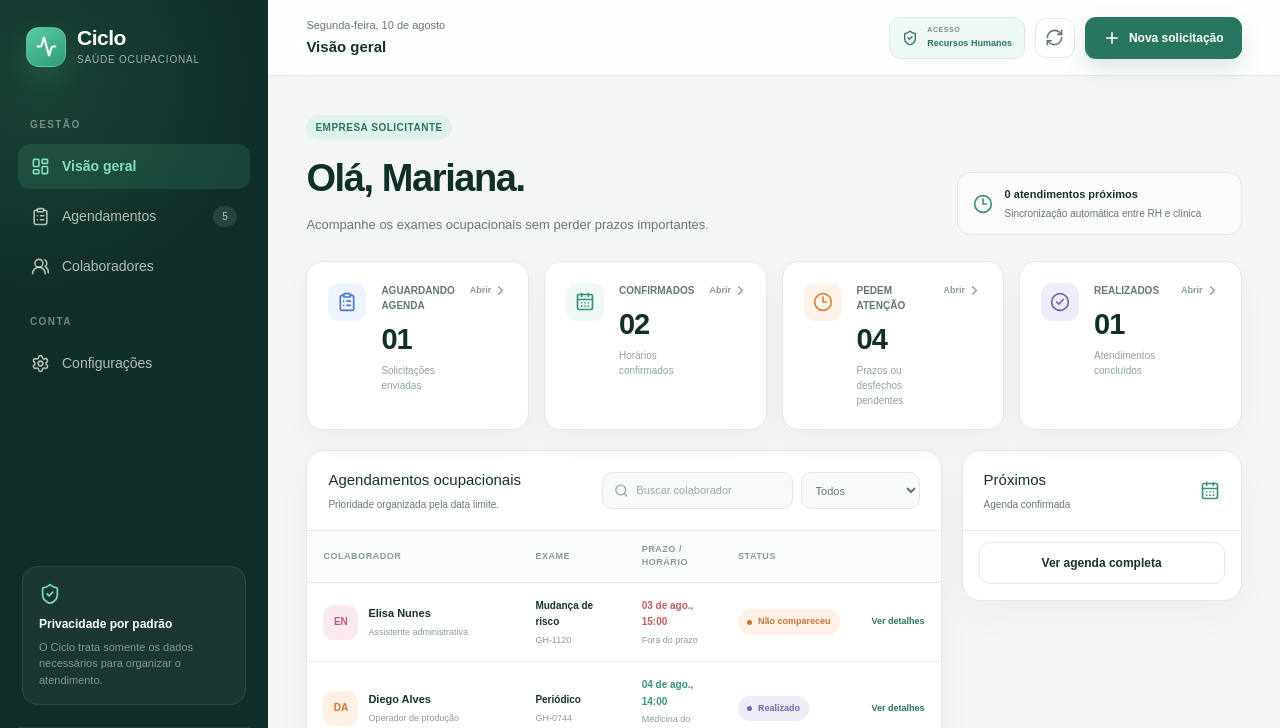
Scenario: Fluxo operacional por perfil › adapta o campo de data ao tipo de exame selecionado
Step 1. Click the button "Nova solicitação" → (1163, 38), box [1085,16,1242,58]
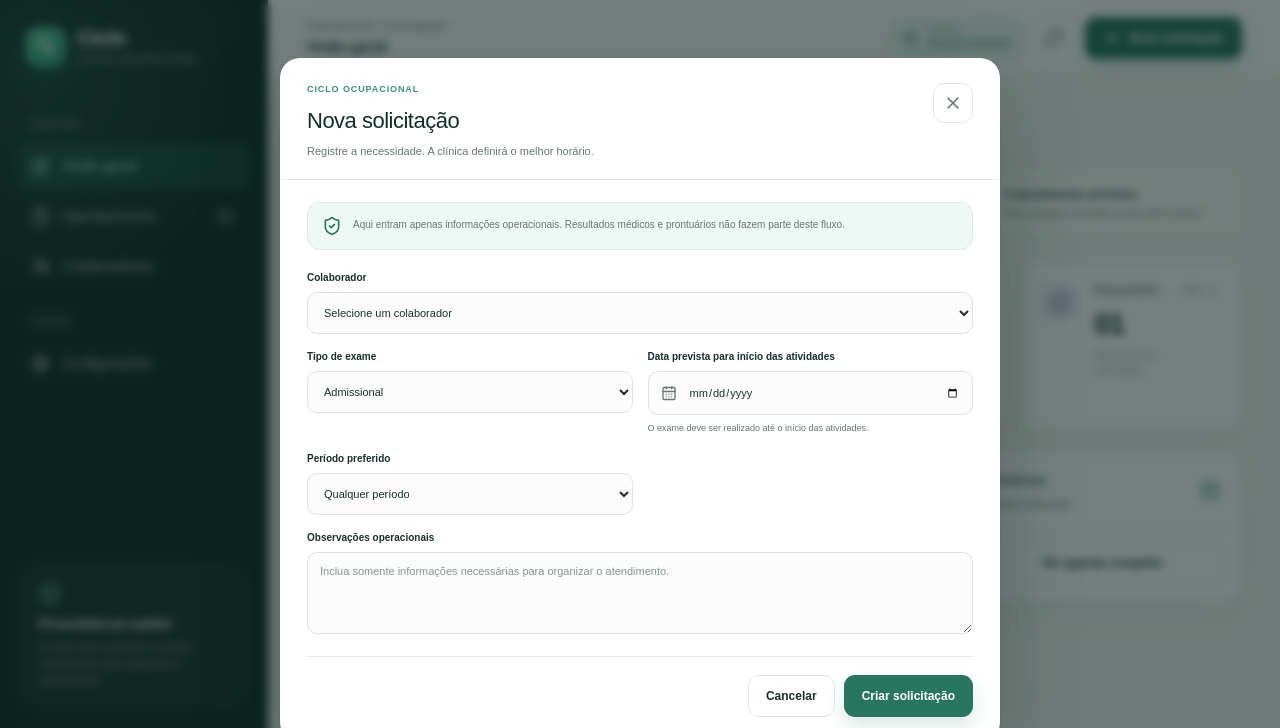
Step 2. Select "Demissional" in the dropdown labelled "Tipo de exame" → (470, 392), box [307,372,632,414]
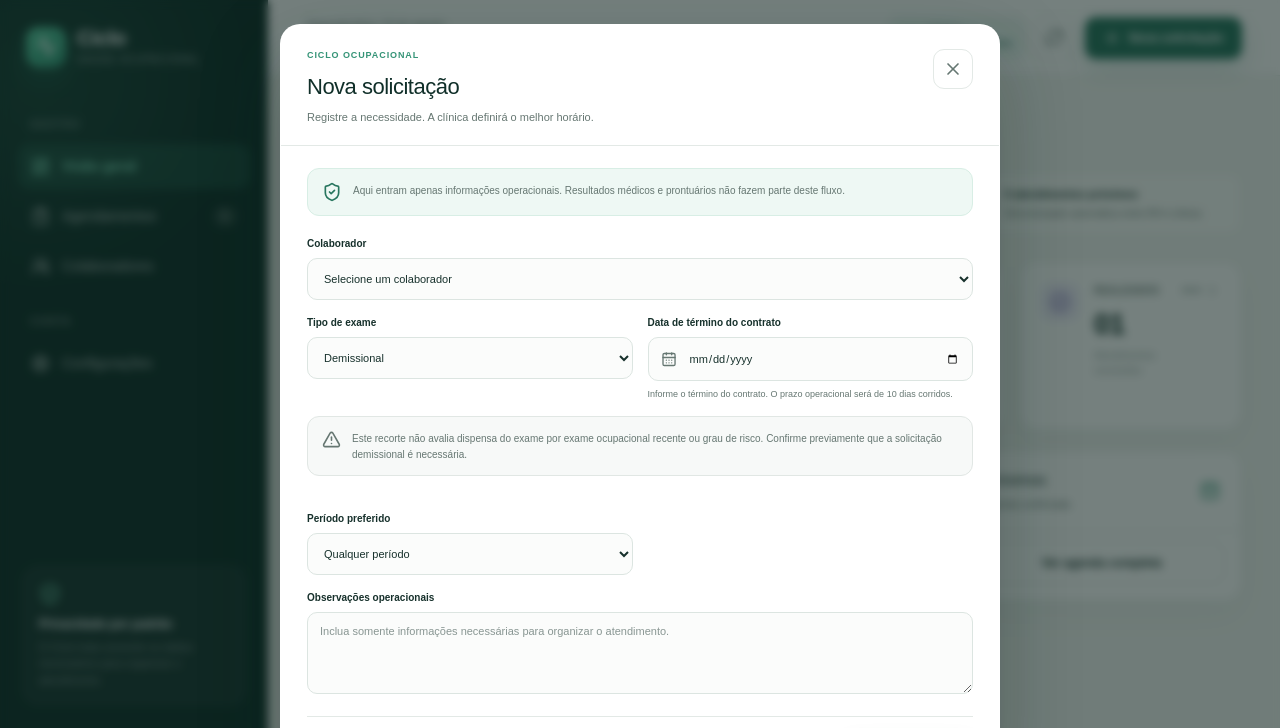
Expected: the date field labelled "Data de término do contrato" is shown, [676,338,972,380]
Expected: the text "O prazo operacional será de 10 dias corridos" is shown, [648,389,953,399]
Expected: the text "não avalia dispensa do exame" is shown, [352,433,942,460]
